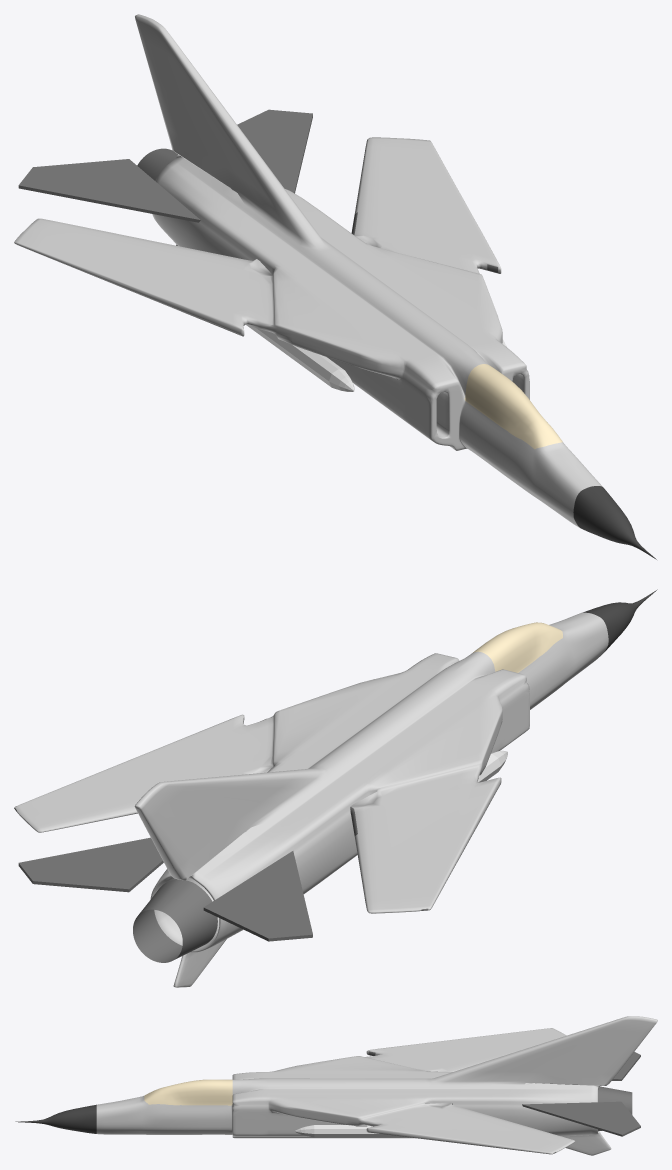
The model's file is mig-23.fbx.
3 views of the same model, one above another, from view 1: azimuth 30°, elevation 25°; view 2: azimuth 150°, elevation 25°; view 3: azimuth 270°, elevation 25° (orthographic). The views are drawn at different scales.
Visible parts, largest first — view 1: BODY, VERT ELEVATOR, FUEL TANK; view 2: BODY, VERT ELEVATOR; view 3: BODY, VERT ELEVATOR, FUEL TANK.
Boxes of the visible parts, x1=… form: BODY: x1=14, y1=14, x2=656, y2=559; VERT ELEVATOR: x1=18, y1=109, x2=312, y2=222; FUEL TANK: x1=246, y1=324, x2=506, y2=391; BODY: x1=14, y1=589, x2=657, y2=987; VERT ELEVATOR: x1=18, y1=837, x2=312, y2=941; BODY: x1=15, y1=1016, x2=657, y2=1155; VERT ELEVATOR: x1=522, y1=1052, x2=640, y2=1136; FUEL TANK: x1=294, y1=1124, x2=409, y2=1137.
Size of the model in its own units: 1326 by 685 by 2875.
